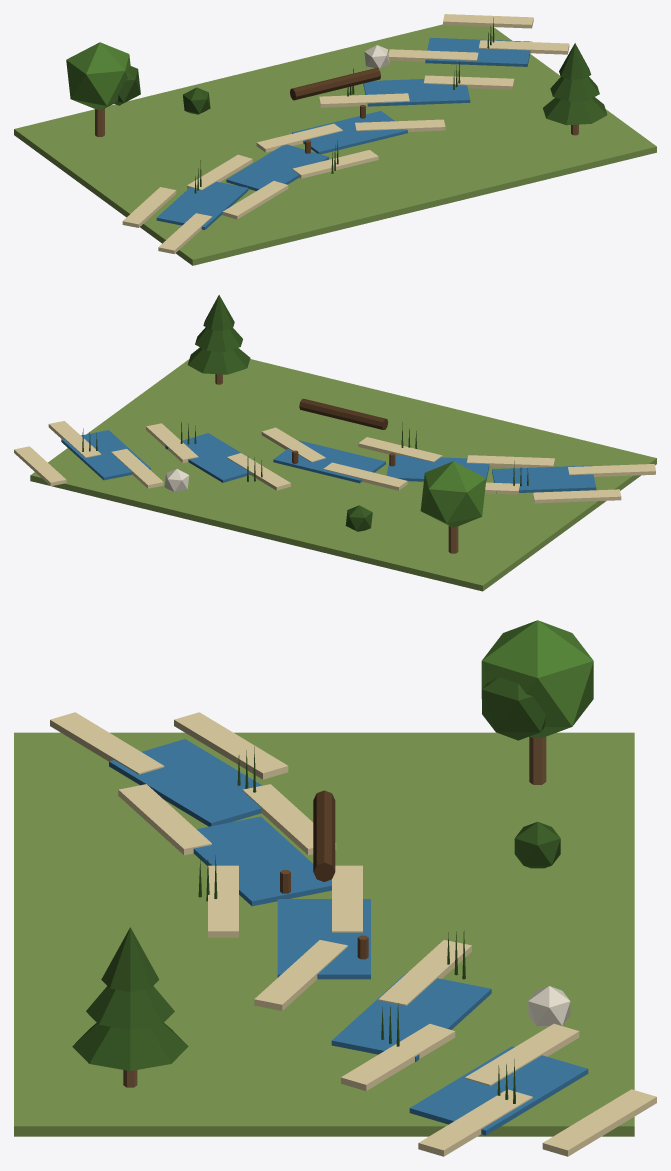
Rendered from landscape.wild-river.glb.
3 views of the same model, one above another, from view 1: azimuth 30°, elevation 25°; view 2: azimuth 150°, elevation 25°; view 3: azimuth 270°, elevation 25° (orthographic). The views are drawn at different scales.
Visible parts, largest first — view 1: landscape.wild-river; view 2: landscape.wild-river; view 3: landscape.wild-river.
Boxes of the visible parts, left/top/right/bottom form: landscape.wild-river: left=14, top=14, right=656, bottom=265; landscape.wild-river: left=14, top=295, right=656, bottom=591; landscape.wild-river: left=14, top=620, right=656, bottom=1156.
Size of the model in its own units: 26.74 by 4.92 by 16.57.
